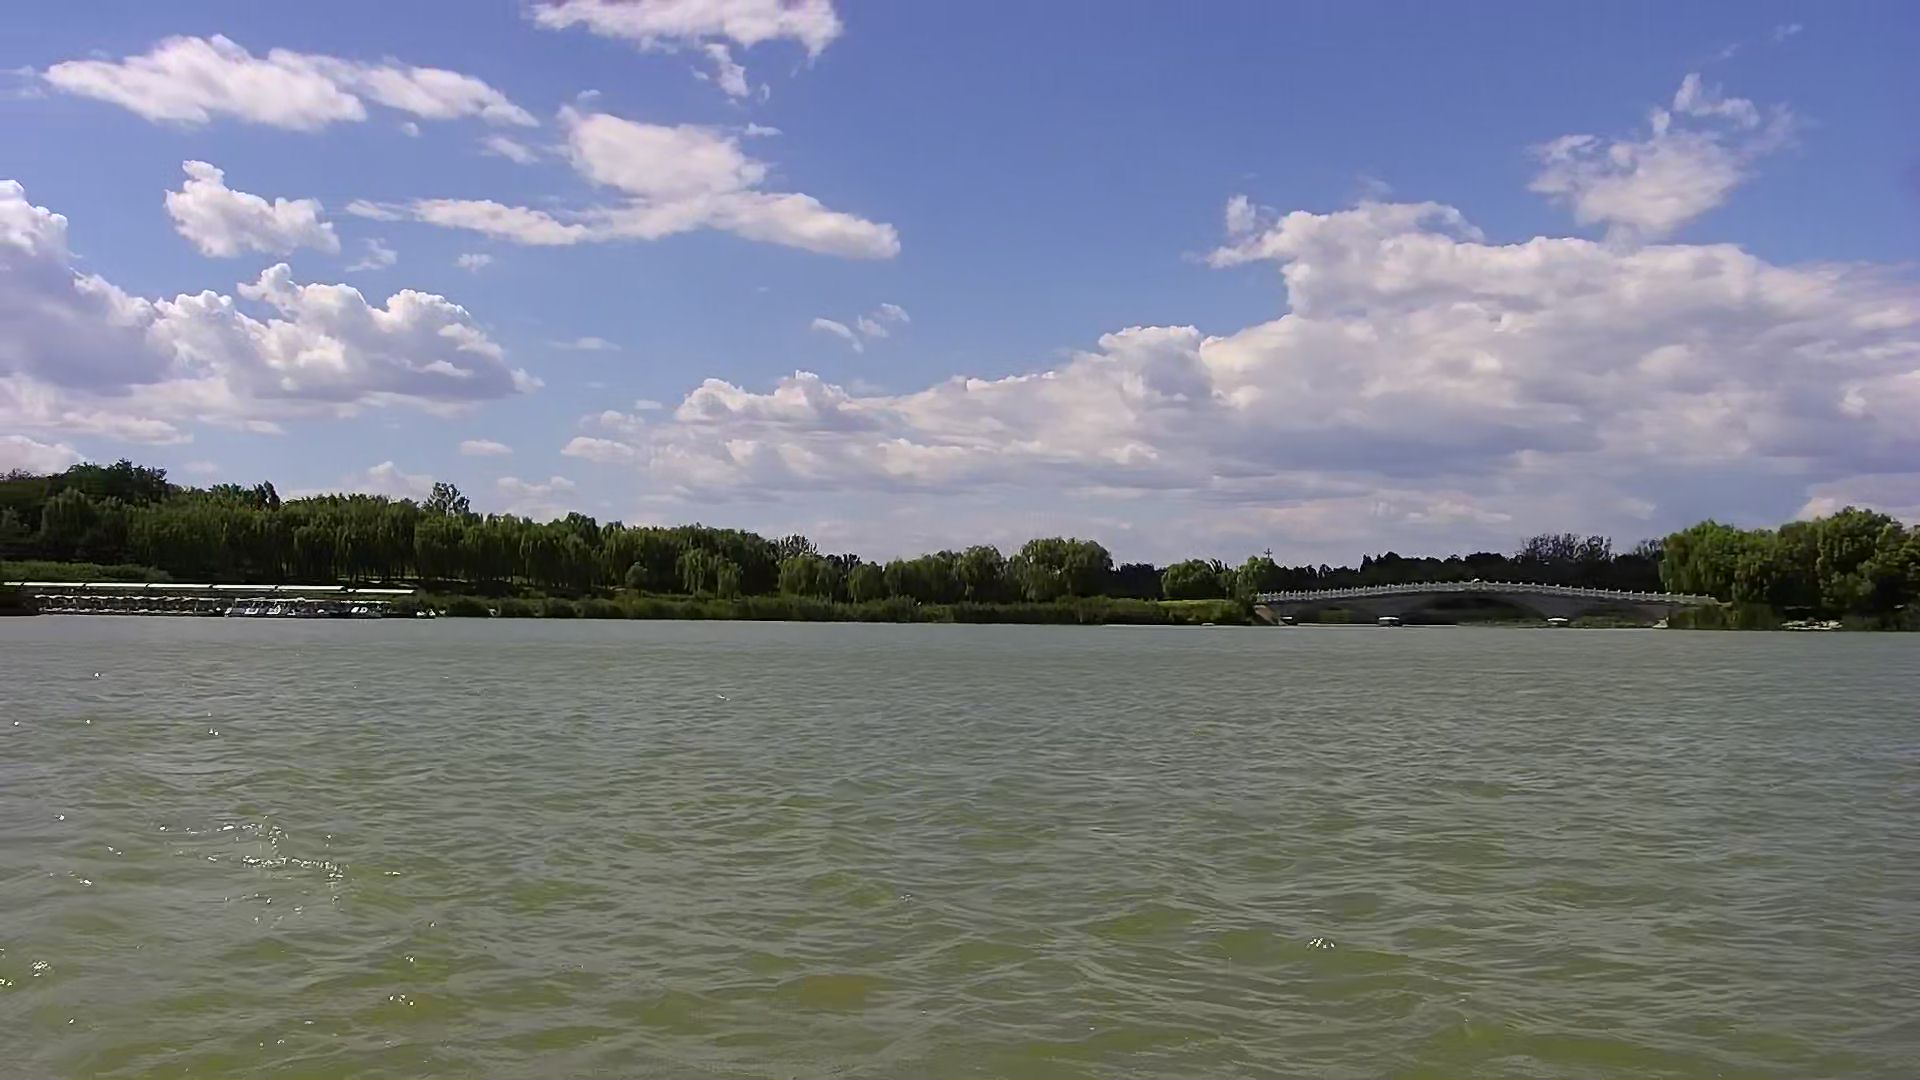bridge: (1250, 575, 1755, 638)
harbor: (4, 578, 409, 622)
